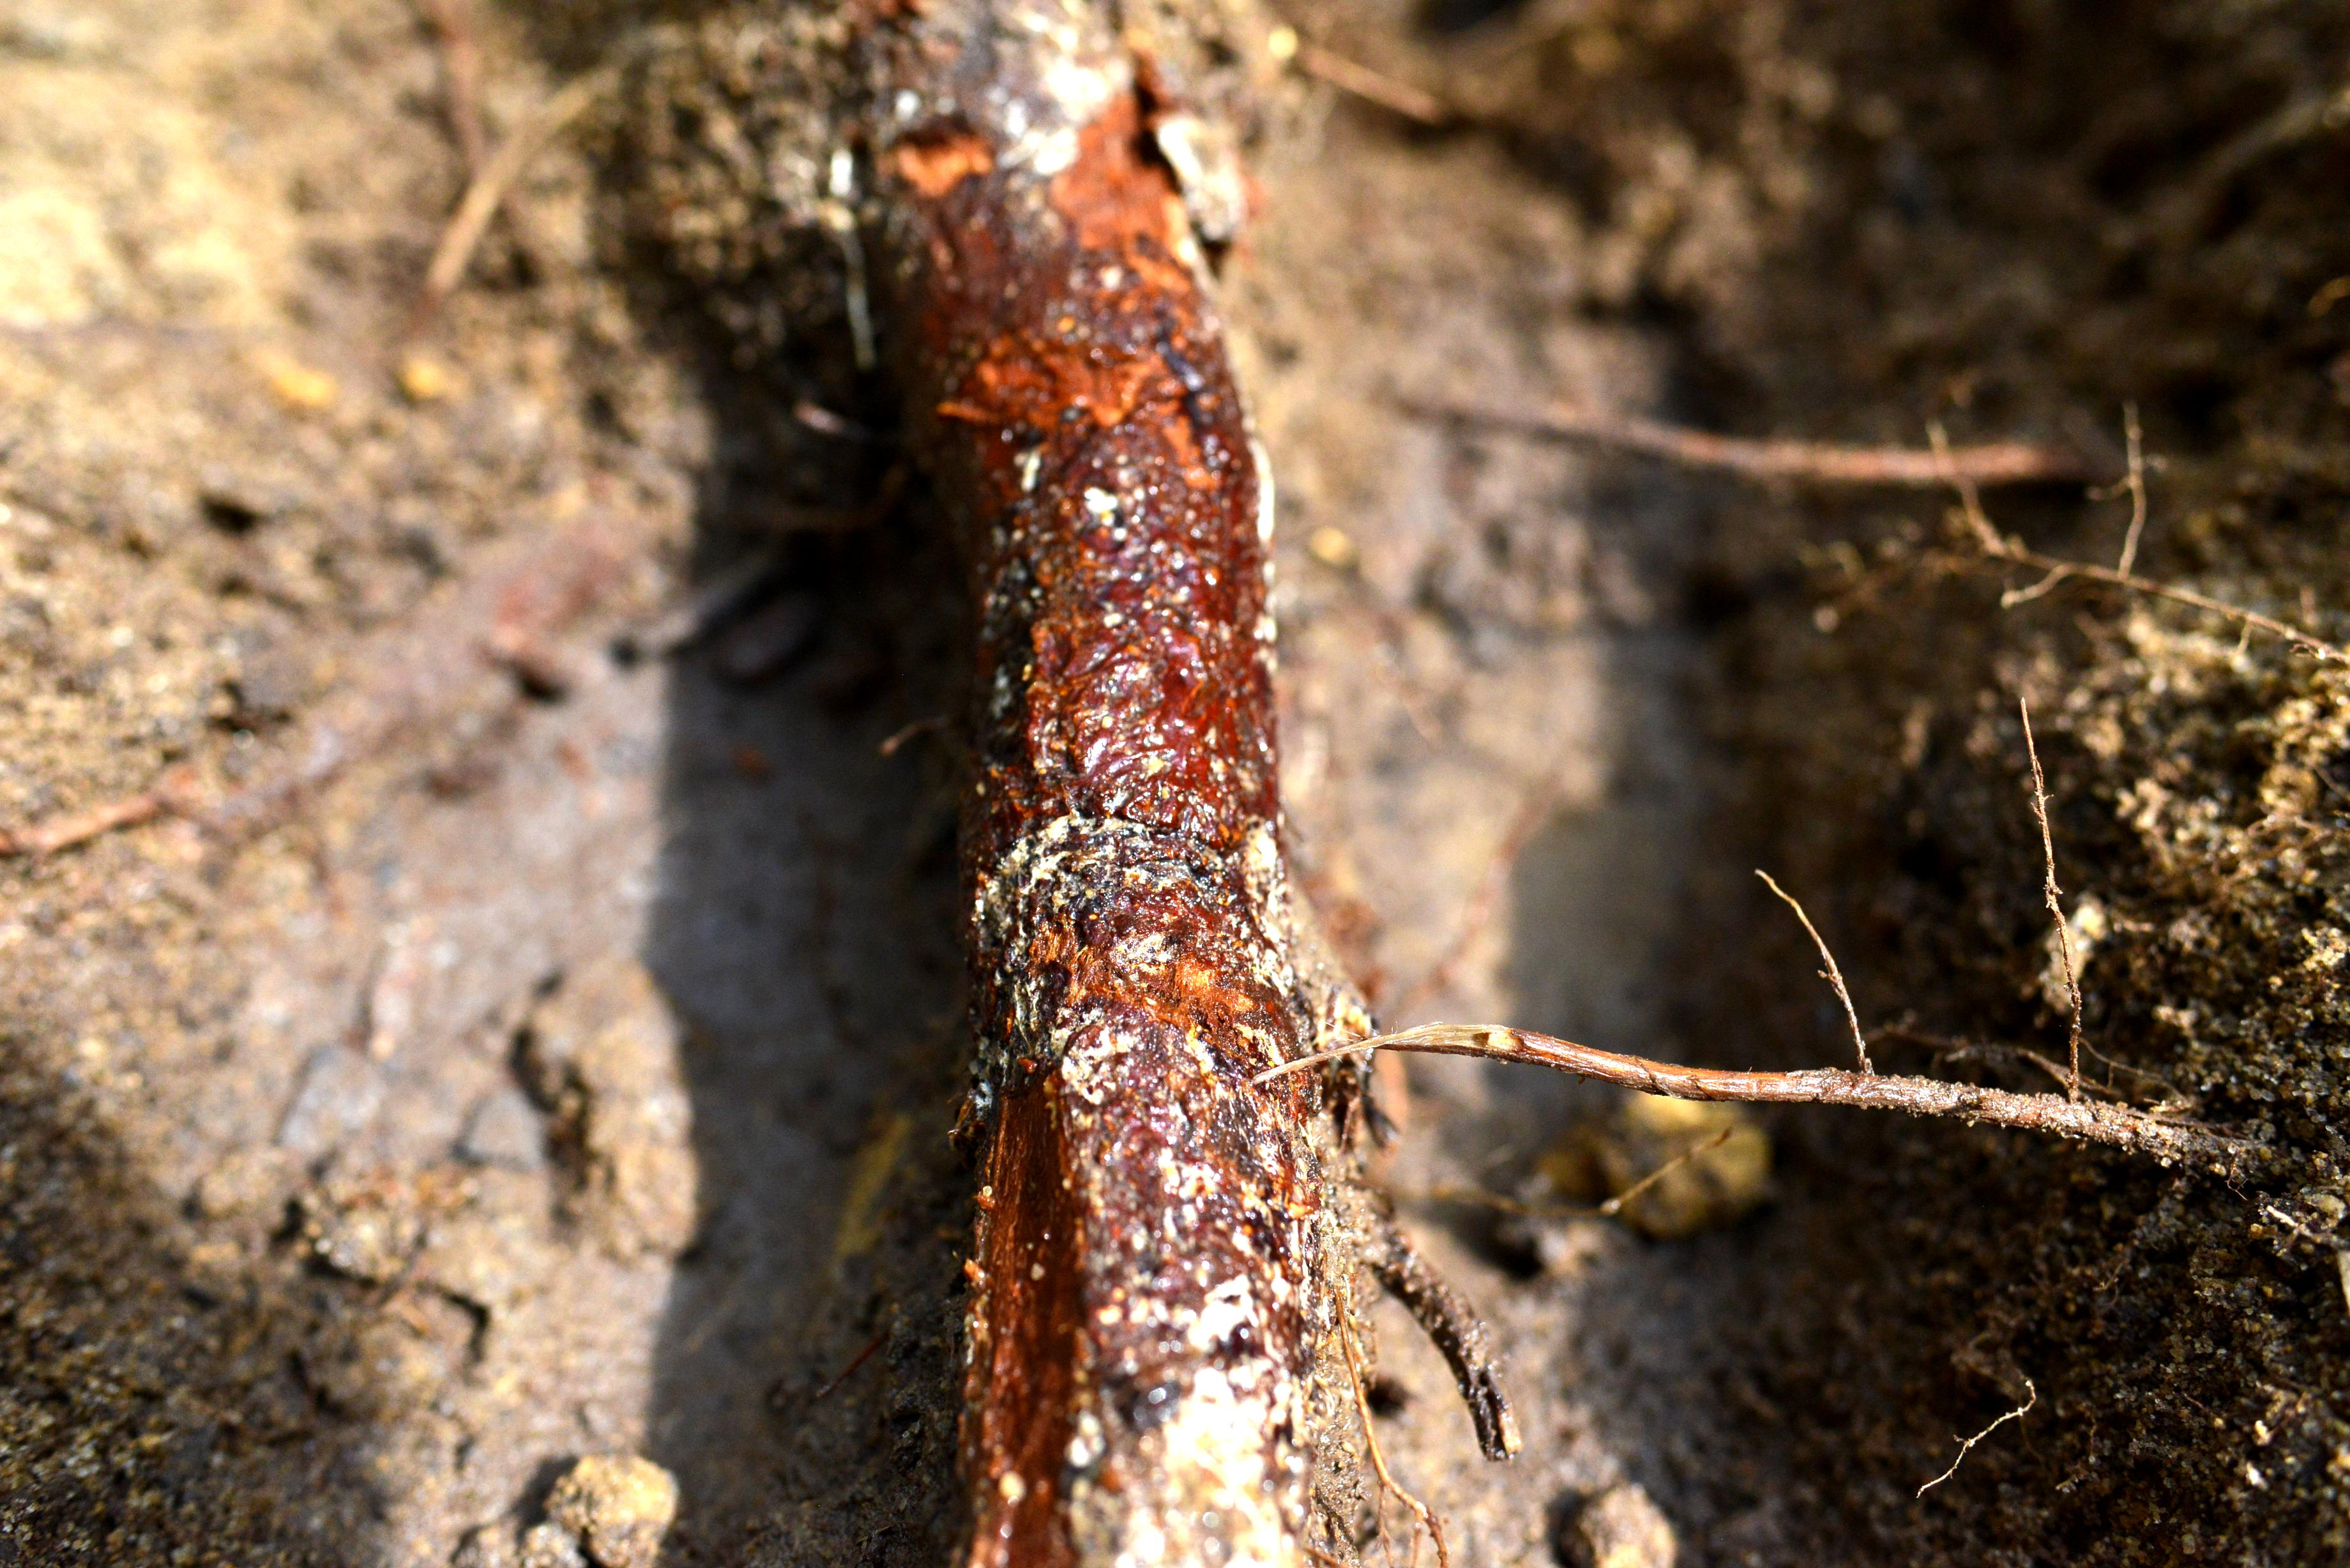Ganoderma - Mycelium: (994, 798, 1291, 1164), (1045, 1269, 1342, 1568), (1211, 380, 1295, 635)
Red Root Rot - Secretion: (866, 126, 1314, 1225)
